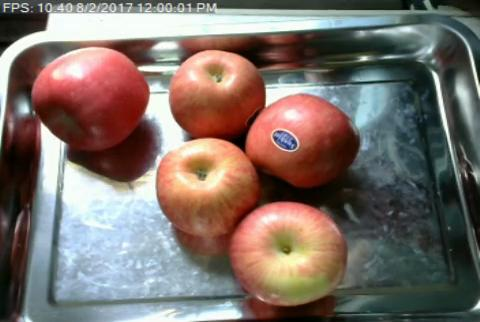apple: (33, 47, 149, 152), (234, 202, 349, 306), (246, 93, 361, 187), (156, 137, 257, 238), (169, 48, 266, 139)
